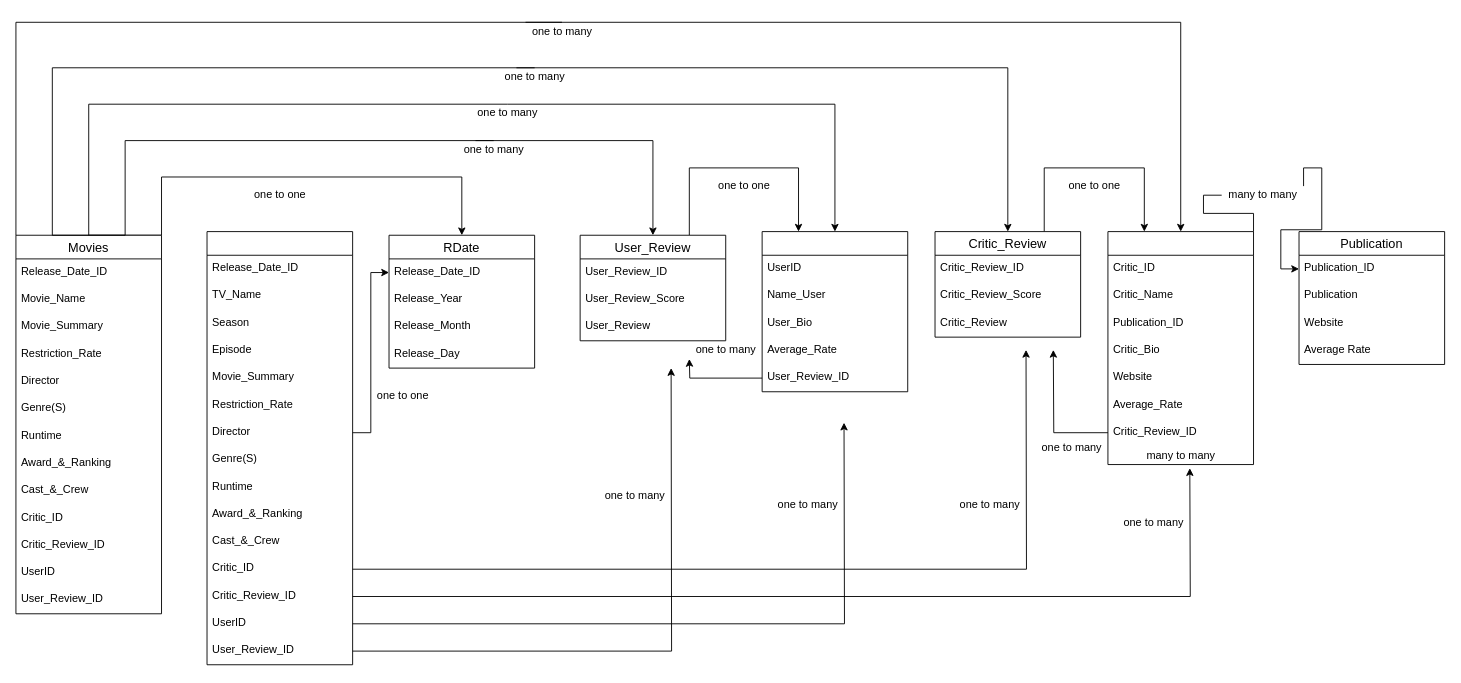
The diagram is 1461 pixels wide and 683 high, and some of its shapes have lost their labels. Here are the shapes that lost their labels. From the top down, the box of each, then its label:
(761, 231, 908, 392): UserInfo
(1107, 231, 1254, 465): CriticInfo
(206, 231, 353, 665): TV
